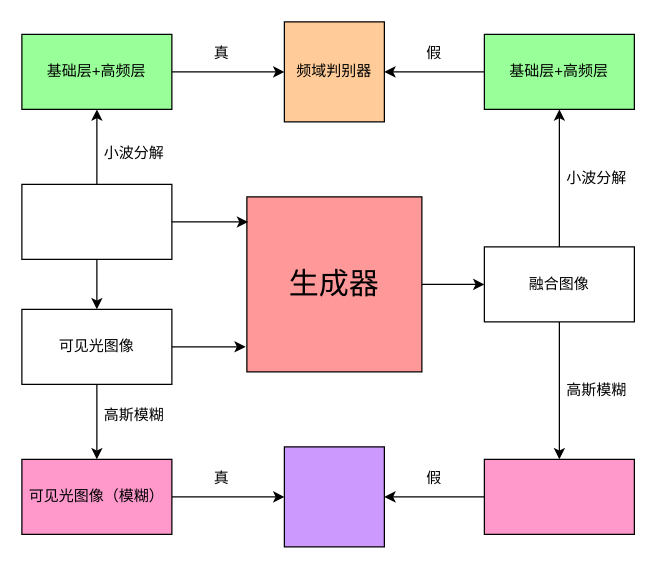
The diagram is 656 pixels wide and 569 high, and some of its shapes have lost their labels. Each missing label, with the centre of its shape:
短波红外图像: the point at 96,221
融合图像（模糊）: the point at 558,496
颜色判别器: the point at 333,496
